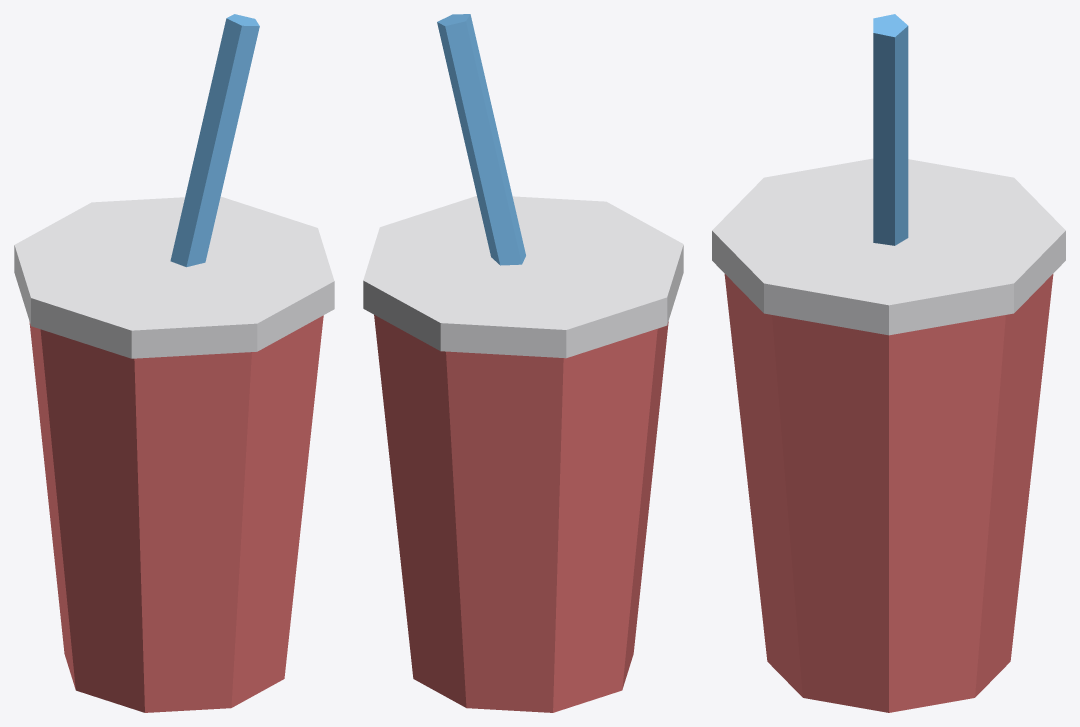
File: Basura_Plastico_VasoPajita.fbx
The picture shows the model from 3 angles, left to right: view 1: azimuth 30°, elevation 25°; view 2: azimuth 150°, elevation 25°; view 3: azimuth 270°, elevation 25°; orthographic projection. The views are drawn at different scales.
Parts seen in each view (by area): view 1: Basura_Plastico_VasoPajita; view 2: Basura_Plastico_VasoPajita; view 3: Basura_Plastico_VasoPajita.
Boxes of the visible parts, bbox=[...] form: Basura_Plastico_VasoPajita: bbox=[14, 14, 334, 712]; Basura_Plastico_VasoPajita: bbox=[363, 14, 683, 712]; Basura_Plastico_VasoPajita: bbox=[712, 14, 1065, 712].
Size of the model in its own units: 0.64 by 1.35 by 0.64.
Materials: 1 (1 with a texture image).
